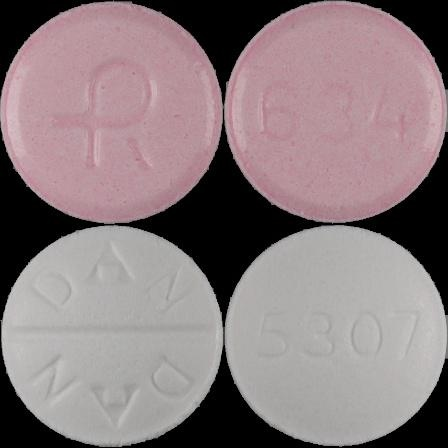68788-9181: (0, 0, 224, 224)
